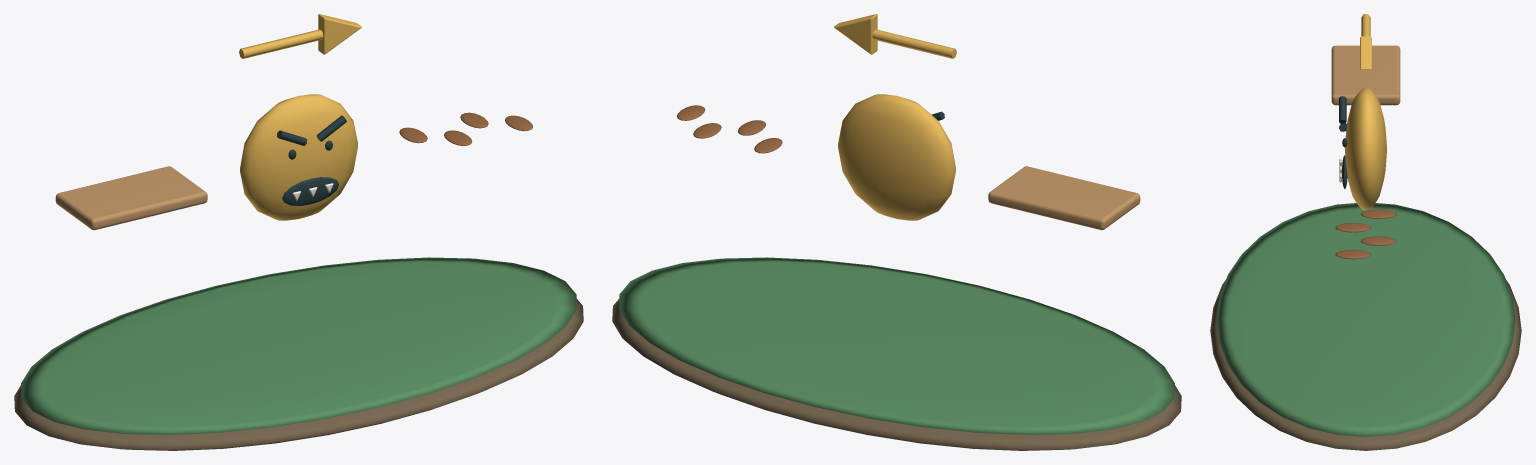
Rendered from complete-first-leaving-tracks.glb.
The picture shows the model from 3 angles, left to right: view 1: azimuth 30°, elevation 25°; view 2: azimuth 150°, elevation 25°; view 3: azimuth 270°, elevation 25°; orthographic projection. The views are drawn at different scales.
Visible parts, largest first — view 1: complete-first-leaving-tracks_surface_01, complete-first-leaving-tracks_surface_03, complete-first-leaving-tracks_surface_00, complete-first-leaving-tracks_surface_02, complete-first-leaving-tracks_surface_04, complete-first-leaving-tracks_surface_06; view 2: complete-first-leaving-tracks_surface_01, complete-first-leaving-tracks_surface_03, complete-first-leaving-tracks_surface_00, complete-first-leaving-tracks_surface_02, complete-first-leaving-tracks_surface_06; view 3: complete-first-leaving-tracks_surface_01, complete-first-leaving-tracks_surface_00, complete-first-leaving-tracks_surface_03, complete-first-leaving-tracks_surface_02, complete-first-leaving-tracks_surface_06, complete-first-leaving-tracks_surface_04.
Boxes of the visible parts, bbox=[...] form: complete-first-leaving-tracks_surface_01: bbox=[21, 257, 576, 434]; complete-first-leaving-tracks_surface_03: bbox=[239, 14, 361, 220]; complete-first-leaving-tracks_surface_00: bbox=[14, 299, 583, 450]; complete-first-leaving-tracks_surface_02: bbox=[55, 166, 207, 230]; complete-first-leaving-tracks_surface_04: bbox=[277, 115, 346, 205]; complete-first-leaving-tracks_surface_06: bbox=[399, 112, 532, 145]; complete-first-leaving-tracks_surface_01: bbox=[619, 257, 1174, 434]; complete-first-leaving-tracks_surface_03: bbox=[834, 14, 956, 220]; complete-first-leaving-tracks_surface_00: bbox=[612, 299, 1181, 450]; complete-first-leaving-tracks_surface_02: bbox=[988, 166, 1140, 230]; complete-first-leaving-tracks_surface_06: bbox=[677, 105, 782, 153]; complete-first-leaving-tracks_surface_01: bbox=[1216, 203, 1515, 436]; complete-first-leaving-tracks_surface_00: bbox=[1210, 280, 1521, 450]; complete-first-leaving-tracks_surface_03: bbox=[1345, 14, 1386, 210]; complete-first-leaving-tracks_surface_02: bbox=[1331, 45, 1400, 105]; complete-first-leaving-tracks_surface_06: bbox=[1335, 209, 1396, 259]; complete-first-leaving-tracks_surface_04: bbox=[1339, 96, 1347, 188].
Bounding box in the file's own units: 4.56 × 2.83 × 2.5.
